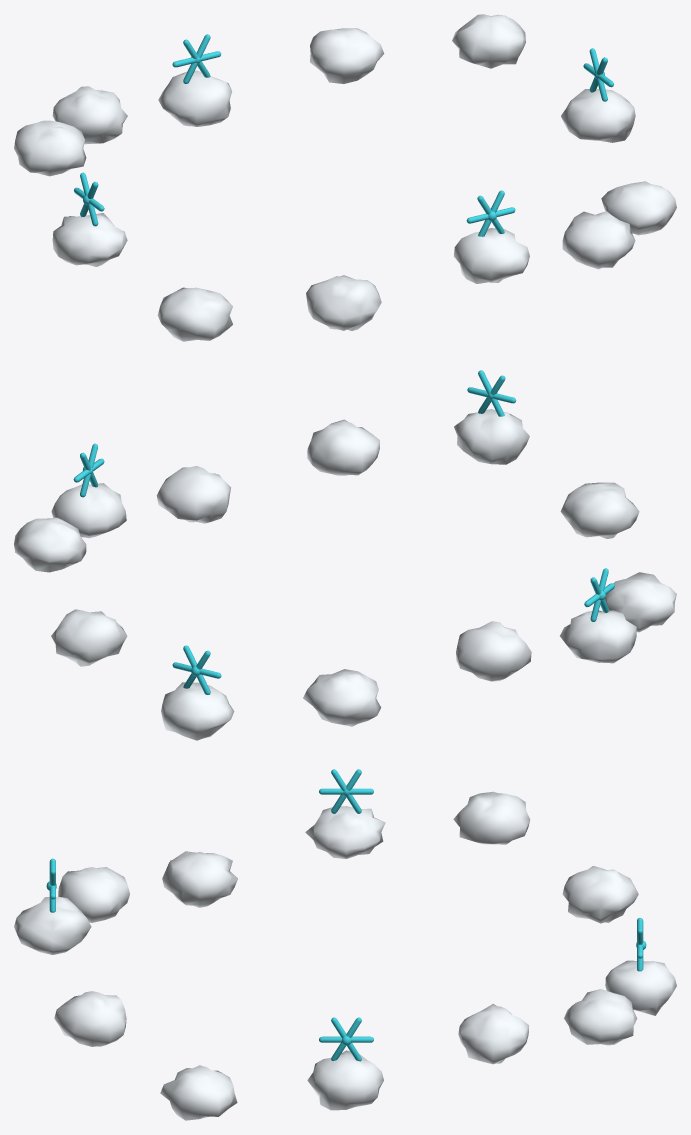
File: Boss_Gardien_Glaciers_Glace_Projectile_Tempete.fbx
3 renders of one model, top to bottom at view 1: azimuth 30°, elevation 25°; view 2: azimuth 150°, elevation 25°; view 3: azimuth 270°, elevation 25°, orthographic.
Parts seen in each view (by area): view 1: Boss_Gardien_Glaciers_Glace_Projectile_Tempete; view 2: Boss_Gardien_Glaciers_Glace_Projectile_Tempete; view 3: Boss_Gardien_Glaciers_Glace_Projectile_Tempete.
Part boxes in pixels (box(x1,y1,x2,y2)): Boss_Gardien_Glaciers_Glace_Projectile_Tempete: box(14, 14, 676, 341); Boss_Gardien_Glaciers_Glace_Projectile_Tempete: box(14, 370, 676, 740); Boss_Gardien_Glaciers_Glace_Projectile_Tempete: box(14, 769, 676, 1120).
Bounding box in the file's own units: 8.1 × 1.96 × 8.13.
1 material, 1 textured.
